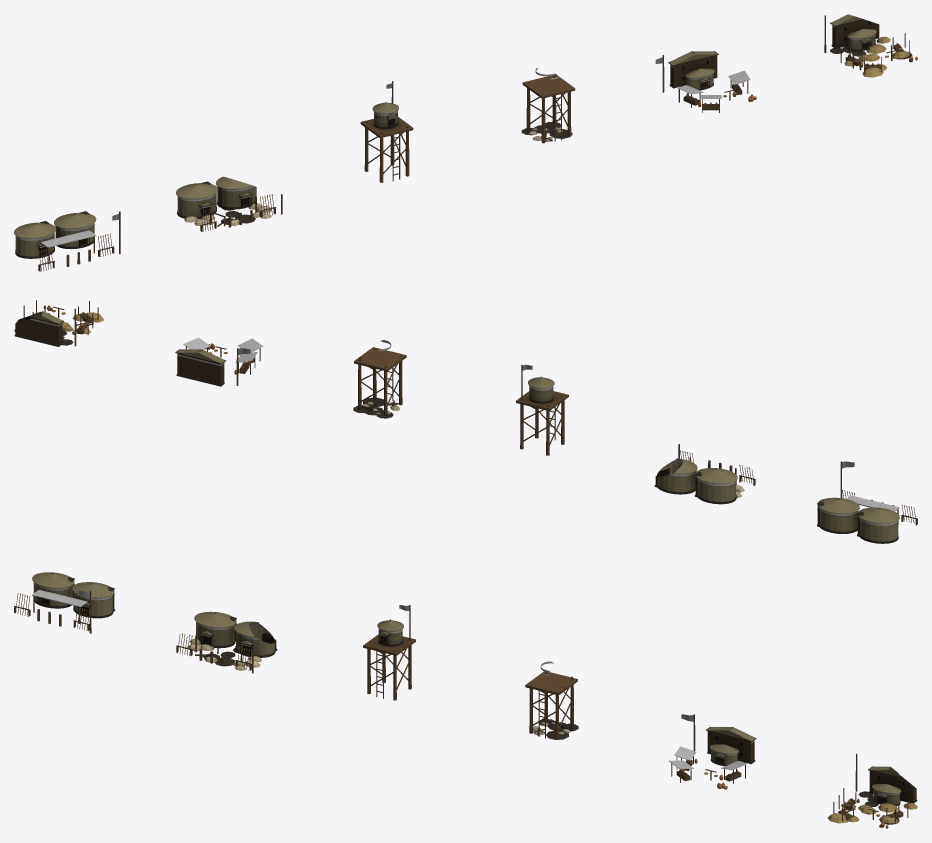
Rendered from rts-bronze-steppe-cdb7139d.glb.
3 renders of one model, top to bottom at view 1: azimuth 30°, elevation 25°; view 2: azimuth 150°, elevation 25°; view 3: azimuth 330°, elevation 25°, orthographic.
Parts seen in each view (by area): view 1: LOD0.001, LOD0, LOD0.005, LOD0.004, LOD0.003, LOD0.002; view 2: LOD0, LOD0.001, LOD0.004, LOD0.003, LOD0.005, LOD0.002; view 3: LOD0.001, LOD0, LOD0.005, LOD0.004, LOD0.003, LOD0.002.
Boxes of the visible parts, box(x1,y1,x2,y2) form: LOD0.001: box(176, 176, 282, 231); LOD0: box(14, 211, 120, 271); LOD0.005: box(824, 14, 917, 77); LOD0.004: box(655, 51, 756, 112); LOD0.003: box(521, 68, 575, 143); LOD0.002: box(360, 81, 413, 182); LOD0: box(817, 461, 917, 543); LOD0.001: box(654, 444, 755, 504); LOD0.004: box(175, 337, 263, 386); LOD0.003: box(353, 340, 406, 418); LOD0.005: box(14, 300, 104, 346); LOD0.002: box(516, 364, 568, 455); LOD0.001: box(176, 611, 277, 673); LOD0: box(14, 572, 114, 633); LOD0.005: box(827, 753, 917, 828); LOD0.004: box(669, 714, 756, 789); LOD0.003: box(525, 661, 578, 739); LOD0.002: box(363, 605, 415, 700).
Size of what is drawn, in the model's own units: 16.33 by 1.48 by 1.37.
2 materials, 2 textured.
